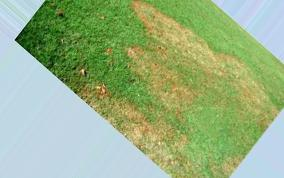patch: (141, 9, 209, 65), (229, 68, 266, 120), (150, 75, 192, 111)
